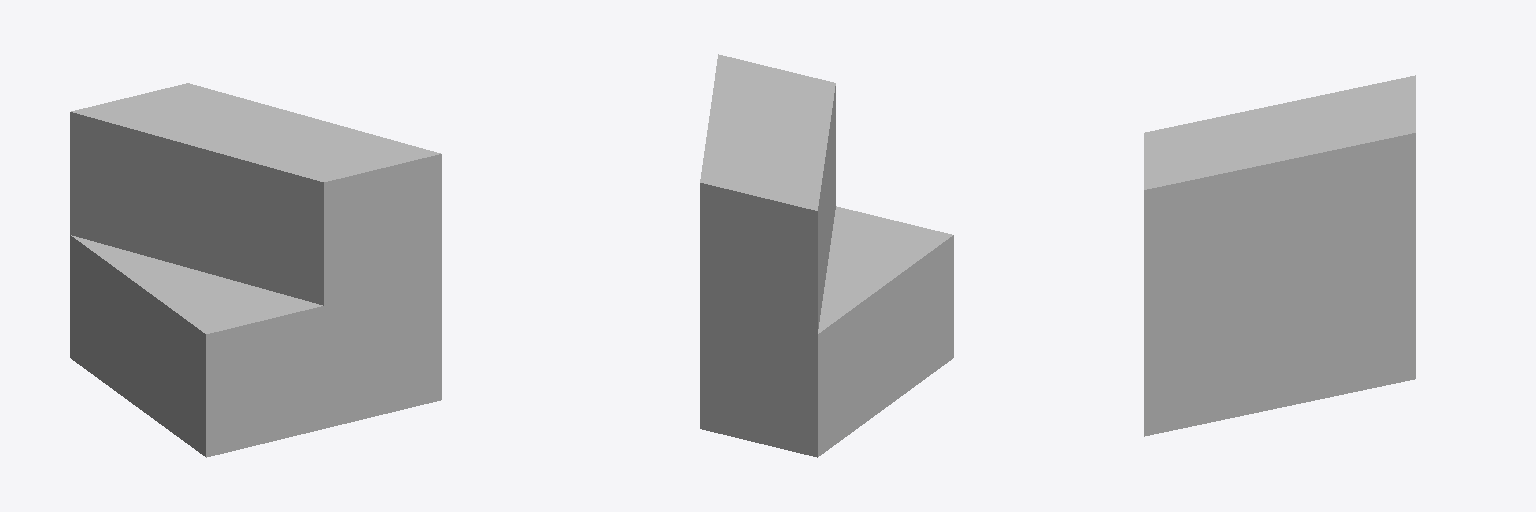
Rendered from diagsteps_58z.obj.
The picture shows the model from 3 angles: view 1: azimuth 30°, elevation 25°; view 2: azimuth 150°, elevation 25°; view 3: azimuth 270°, elevation 25°; orthographic projection.
Size of the model in its own units: 1 by 1 by 1.